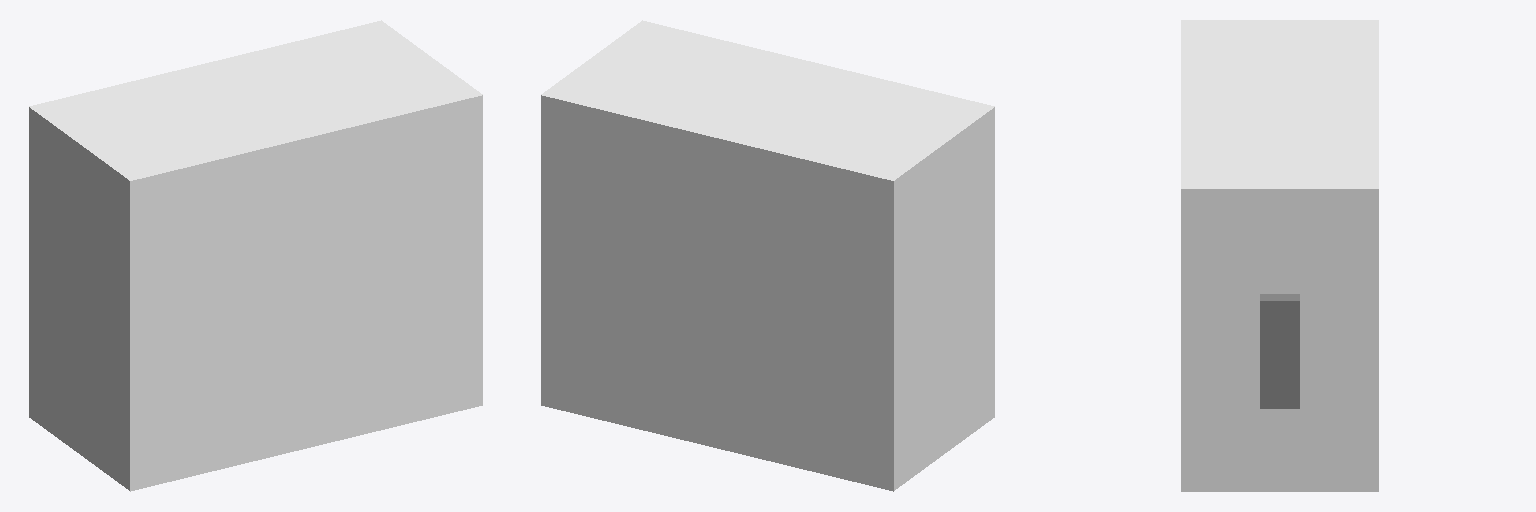
robot.urdf — cargo_bag:
<?xml version="1.0"?>

<!-- Rigid version of the cargo bag -->

<!-- All dimensions match the original deformable cargo bag (50 x 42 x 25 cm) -->
<!-- We connect the handle and the main compartment with a few "dummy" links/joints -->
<!--   to mimic how the deformable handle should behave -->
<!-- Three revolute joints allows us to mimic a ball joint while allowing us to set limits -->
<!--   on the motion for certain axes, and add friction -->

<!-- NOTE: to edit this file, ensure the following: -->
<!-- 1) Update the visual and collision dimensions together -->
<!-- 2) All dummy links should have the same properties (like inertia) -->
<!-- 3) If updating the mass, also update the inertia! However, in general, we should load this -->
<!--    into pybullet NOT using the USE_INERTIA_FROM_FILE flag since these values might be wrong -->

<!-- TODO: decide if there should be a prismatic link as well -->

<robot name="cargo_bag">
    <link name="main_compartment_link">
        <self_collide>false</self_collide>
        <visual name="main_compartment_visual">
            <origin rpy="0 0 0" xyz="0 0 0"/>
            <geometry>
                <box size="0.50 0.25 0.42"/>
            </geometry>
            <material name="bag_material">
                <!-- White -->
                <color rgba="1 1 1 1"/>
            </material>
        </visual>
        <!-- Split the collision body into 3 parts to allow for collision-free space around the handle -->
        <collision name="center_collision">
            <origin rpy="0 0 0" xyz="-0.03 0 0"/>
            <geometry>
                <box size="0.44 0.25 0.20"/>
            </geometry>
        </collision>
        <collision name="top_collision">
            <origin rpy="0 0 0" xyz="0 0 0.155"/>
            <geometry>
                <box size="0.50 0.25 0.11"/>
            </geometry>
        </collision>
        <collision name="bottom_collision">
            <origin rpy="0 0 0" xyz="0 0 -0.155"/>
            <geometry>
                <box size="0.50 0.25 0.11"/>
            </geometry>
        </collision>
        <inertial>
            <origin rpy="0 0 0" xyz="0 0 0"/>
            <!-- Set the mass so that the whole bag has a total mass of 5kg -->
            <mass value="4.885"/>
            <inertia ixx="0.09725221" ixy="0" ixz="0" iyy="0.17358033" iyz="0" izz="0.12721354"/>
        </inertial>
    </link>

    <link name="handle_link">
        <self_collide>false</self_collide>
        <visual name="handle_visual">
            <origin rpy="0 0 0" xyz="0 0 0"/>
            <geometry>
                <box size="0.02 0.05 0.15"/>
            </geometry>
            <material name="handle_material">
                <!-- Gray -->
                <color rgba="0.6 0.6 0.6 1"/>
            </material>
        </visual>
        <collision name="handle_collision">
            <origin rpy="0 0 0" xyz="0 0 0"/>
            <geometry>
                <box size="0.02 0.05 0.15"/>
            </geometry>
        </collision>
        <inertial>
            <origin rpy="0 0 0" xyz="0 0 0"/>
            <mass value="0.1"/>
            <inertia ixx="2.08333e-4" ixy="0" ixz="0" iyy="1.90833e-4" iyz="0" izz="2.41667e-5"/>
        </inertial>
    </link>

    <joint name="pitch_joint" type="revolute">
        <parent link="main_compartment_link"/>
        <child link="pitch_link"/>
        <axis xyz="0 1 0" />
        <!-- Origin specifies the ball joint location -->
        <origin rpy="0 0 0" xyz="0.25 0 0"/>
        <limit effort="1.0" lower="-0.7" upper="0.7" velocity="1.0"/>
    </joint>

    <link name="pitch_link">
        <!-- Small dummy mass/inertia values so this link is not ignored -->
        <inertial>
            <mass value="0.005" />
            <inertia ixx="5.0e-5" ixy="0" ixz="0" iyy="5.0e-5" iyz="0" izz="5.0e-5" />
        </inertial>
    </link>

    <joint name="yaw_joint" type="revolute">
        <parent link="pitch_link"/>
        <child link="yaw_link"/>
        <axis xyz="0 0 1" />
        <limit effort="1.0" lower="-0.52360" upper="0.52360" velocity="1.0"/>
    </joint>

    <link name="yaw_link">
        <!-- Small dummy mass/inertia values so this link is not ignored -->
        <inertial>
            <mass value="0.005" />
            <inertia ixx="5.0e-5" ixy="0" ixz="0" iyy="5.0e-5" iyz="0" izz="5.0e-5" />
        </inertial>
    </link>

    <joint name="roll_joint" type="revolute">
        <parent link="yaw_link"/>
        <child link="roll_link"/>
        <axis xyz="1 0 0" />
        <limit effort="1.0" lower="-0.52360" upper="0.52360" velocity="1.0"/>
    </joint>

    <link name="roll_link">
        <!-- Small dummy mass/inertia values so this link is not ignored -->
        <inertial>
            <mass value="0.005" />
            <inertia ixx="5.0e-5" ixy="0" ixz="0" iyy="5.0e-5" iyz="0" izz="5.0e-5" />
        </inertial>
    </link>

    <joint name="handle_joint" type="fixed">
        <!-- Origin specifies the handle's offset from ball joint location -->
        <!-- Orientation dictates how the Astrobee grasps the handle -->
        <origin rpy="0 0 0" xyz="0.035 0 0" />
        <parent link="roll_link"/>
        <child link="handle_link"/>
    </joint>

</robot>

--- Facts derived from the render (not from the file) ---
Views: 3 orthographic renders of the robot side by side, from view 1: azimuth 30°, elevation 25°; view 2: azimuth 150°, elevation 25°; view 3: azimuth 270°, elevation 25°.
Model cargo_bag with 5 links and 4 joints (3 revolute, 1 fixed), rooted at main_compartment_link, posed all joints at 0.
Visible links, largest first — view 1: main_compartment_link; view 2: main_compartment_link; view 3: main_compartment_link, handle_link.
Link boxes in pixels (bbox=[...]): main_compartment_link: bbox=[29, 20, 482, 491]; main_compartment_link: bbox=[541, 20, 994, 491]; main_compartment_link: bbox=[1181, 20, 1378, 491]; handle_link: bbox=[1260, 294, 1299, 408].
Bounding box of the posed robot: 0.545 × 0.25 × 0.42 m (x, y, z).
Geometry: primitives only (box / cylinder / sphere), no mesh files.